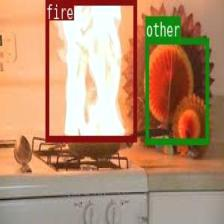fire: (45, 0, 136, 140)
